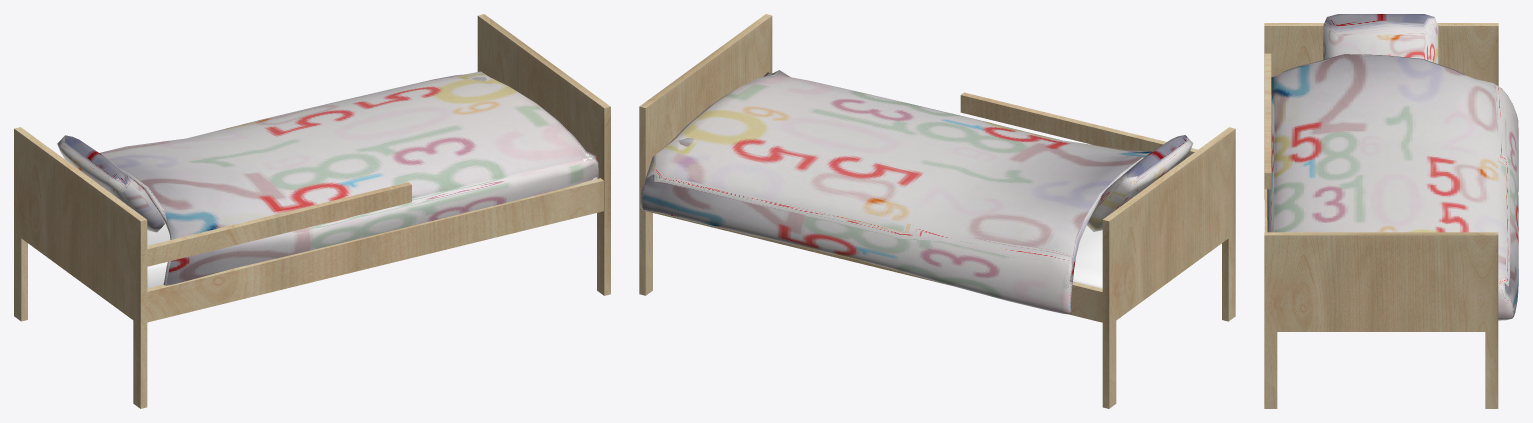
File: IKEA-Kritter_Child_Bed-3D.obj
3 views of the same model, side by side, from view 1: azimuth 30°, elevation 25°; view 2: azimuth 150°, elevation 25°; view 3: azimuth 270°, elevation 25° (orthographic). The views are drawn at different scales.
Parts seen in each view (by area): view 1: object_1, object_3, object_2; view 2: object_1, object_3, object_2; view 3: object_1, object_3.
Part boxes in pixels (x1,y1,x2,y2): object_1: (57, 71, 598, 285); object_3: (14, 14, 610, 408); object_2: (147, 153, 597, 288); object_1: (640, 70, 1193, 314); object_3: (639, 14, 1235, 408); object_2: (772, 75, 1102, 288); object_1: (1267, 14, 1518, 320); object_3: (1264, 23, 1498, 408).
Bounding box in the file's own units: 1652 × 691 × 837.
